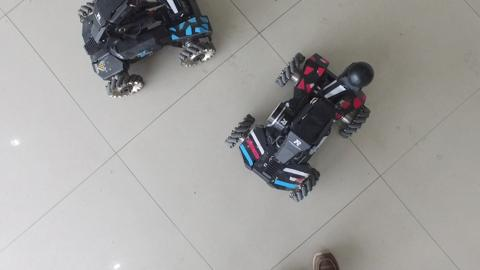chariot: (222, 44, 376, 210), (73, 1, 222, 101)
